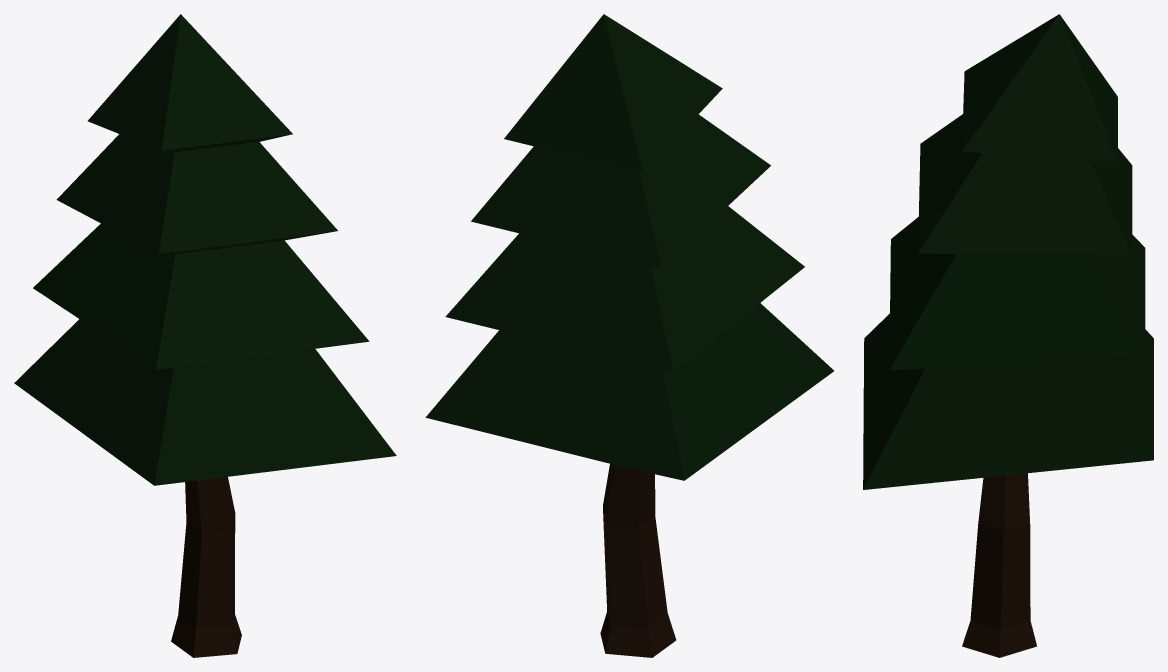
The model's file is pine.FBX.
The picture shows the model from 3 angles, left to right: view 1: azimuth 30°, elevation 25°; view 2: azimuth 150°, elevation 25°; view 3: azimuth 270°, elevation 25°; orthographic projection. The views are drawn at different scales.
Parts seen in each view (by area): view 1: Hedra006; view 2: Hedra006; view 3: Hedra006.
Part boxes in pixels (x1,y1,x2,y2): Hedra006: [14, 14, 396, 657]; Hedra006: [425, 14, 833, 657]; Hedra006: [863, 14, 1153, 657].
Bounding box in the file's own units: 31.46 × 75.5 × 31.7.
